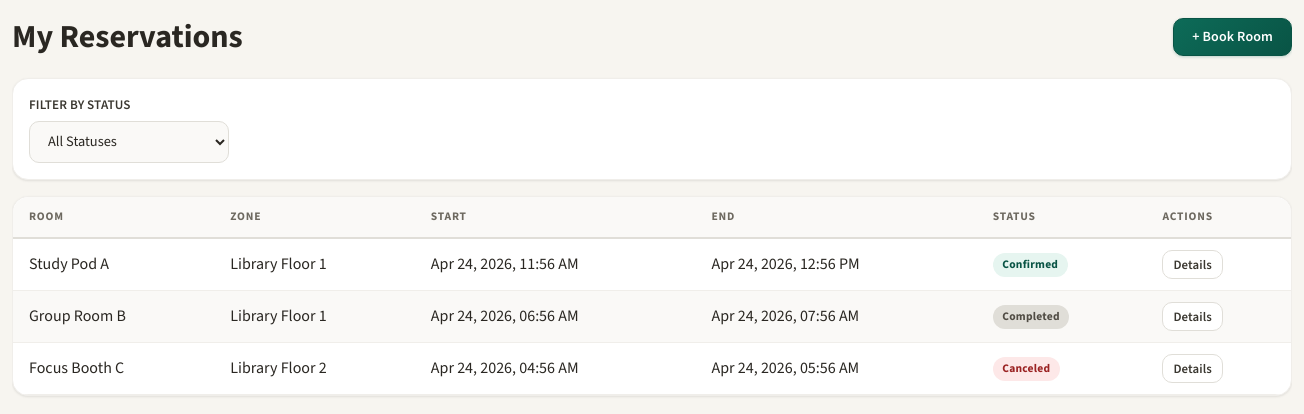
Test case: ReservationsPage › Status filter › shows only confirmed reservations when filter is set to confirmed
Expected: the text "Study Pod A" is shown, [13, 238, 214, 290]
Note: Apply filter
Select "Confirmed" in the dropdown at [129, 142], box [29, 120, 229, 163]
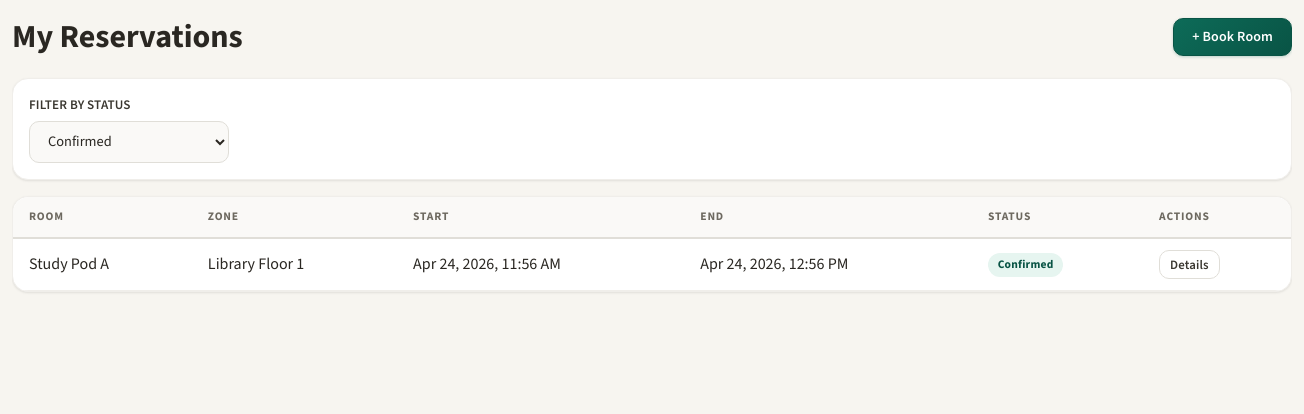
Expected: the text "Study Pod A" is shown, [13, 238, 192, 290]
Expected: the text "Group Room B" is gone
